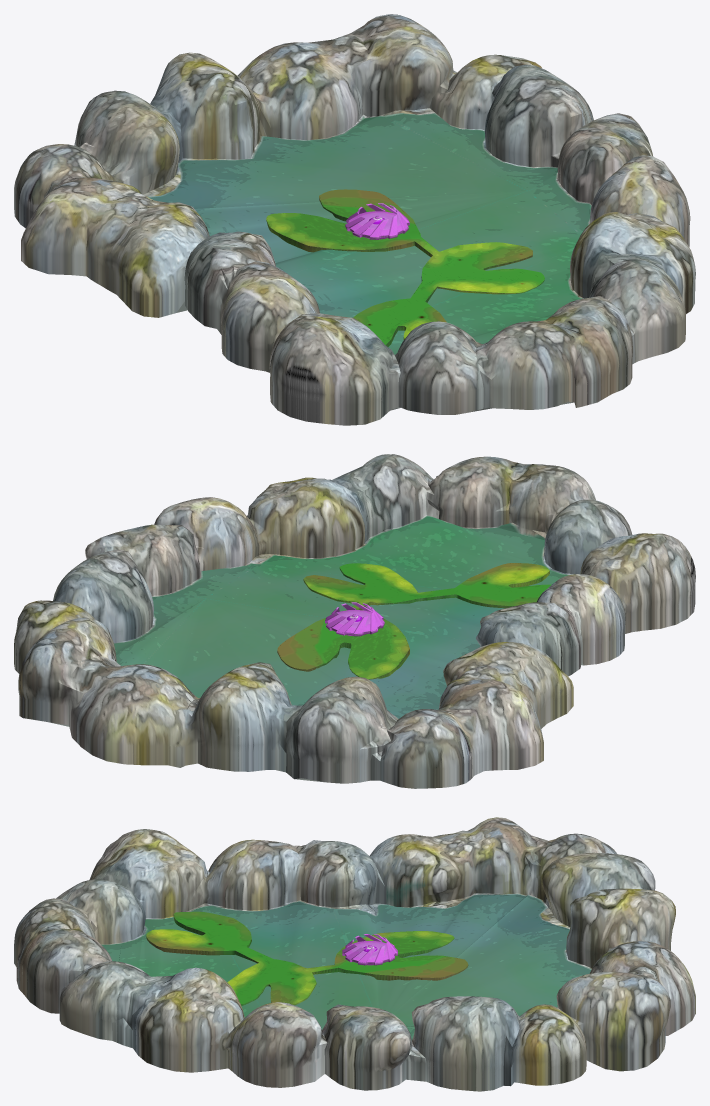
File: pond3.glb
The picture shows the model from 3 angles, top to bottom: view 1: azimuth 30°, elevation 25°; view 2: azimuth 150°, elevation 25°; view 3: azimuth 270°, elevation 25°; orthographic projection. The views are drawn at different scales.
Parts seen in each view (by area): view 1: pSphere20, pCube4, pCylinder2; view 2: pSphere20, pCube4, pCylinder2; view 3: pSphere20, pCube4, pCylinder2.
Boxes of the visible parts, x1=… form: pSphere20: x1=14, y1=14, x2=695, y2=425; pCube4: x1=266, y1=189, x2=544, y2=346; pCylinder2: x1=345, y1=203, x2=409, y2=239; pSphere20: x1=14, y1=454, x2=695, y2=788; pCube4: x1=277, y1=563, x2=551, y2=679; pCylinder2: x1=325, y1=602, x2=384, y2=636; pSphere20: x1=14, y1=817, x2=695, y2=1091; pCube4: x1=146, y1=911, x2=468, y2=1005; pCylinder2: x1=342, y1=934, x2=397, y2=965.
Bounding box in the file's own units: 0.9174 × 0.1529 × 1.14.
Materials: 3 (3 with a texture image).
